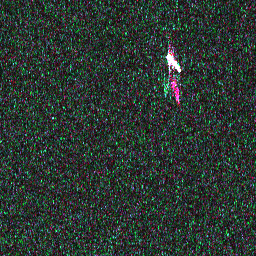ship: (163, 51, 183, 75)
